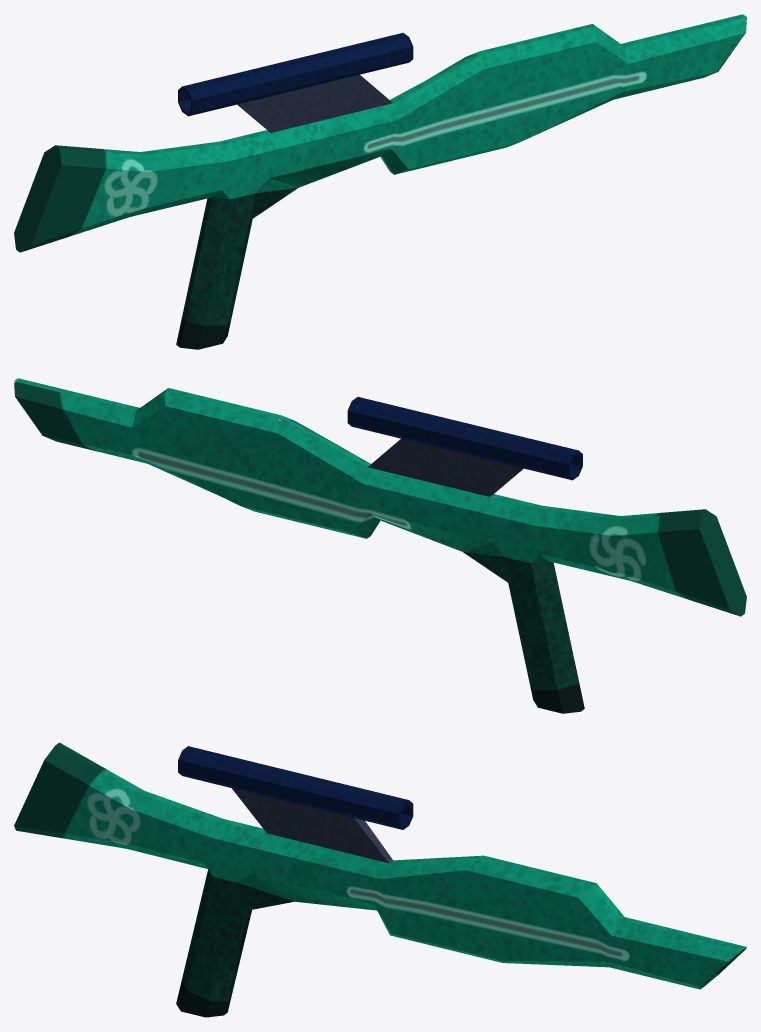
The model's file is Rifle.FBX.
3 views of the same model, one above another, from view 1: azimuth 30°, elevation 25°; view 2: azimuth 150°, elevation 25°; view 3: azimuth 330°, elevation 25° (orthographic).
Parts seen in each view (by area): view 1: Box002; view 2: Box002; view 3: Box002.
Boxes of the visible parts, x1=… form: Box002: x1=14, y1=14, x2=746, y2=349; Box002: x1=14, y1=378, x2=746, y2=713; Box002: x1=14, y1=742, x2=746, y2=1017.
Bounding box in the file's own units: 64.09 × 2.62 × 21.55.
Materials: 1 (1 with a texture image).
